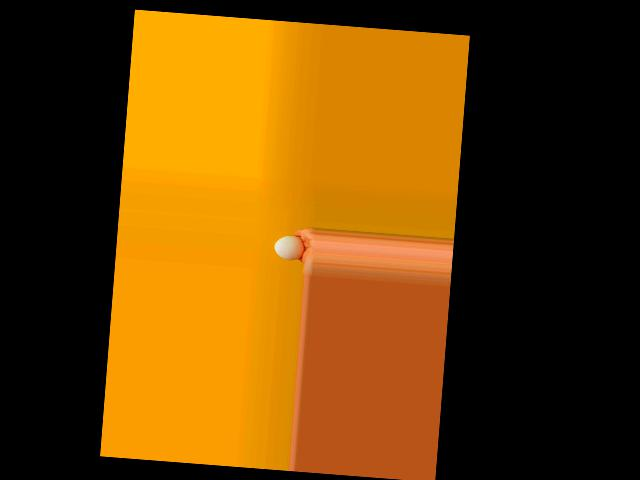egg: (273, 234, 305, 260)
